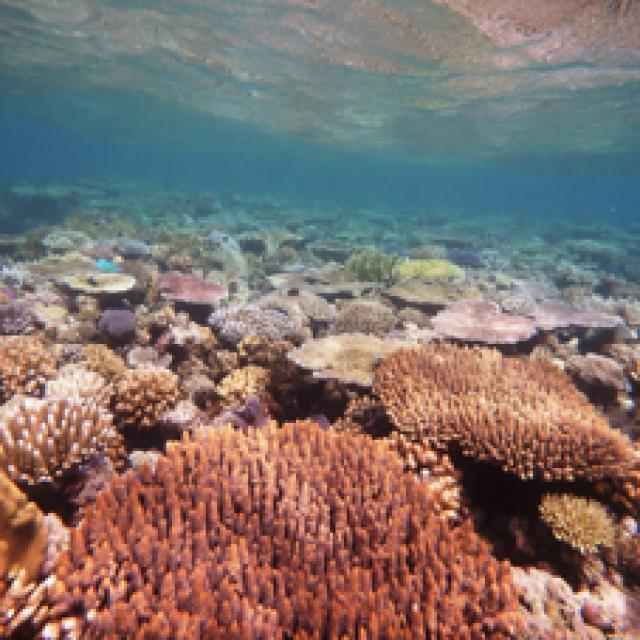Healthy: (66, 429, 514, 635), (382, 343, 633, 472), (1, 400, 105, 483), (534, 491, 623, 555), (436, 301, 544, 340), (111, 370, 185, 422), (1, 339, 57, 401), (156, 272, 226, 308)
